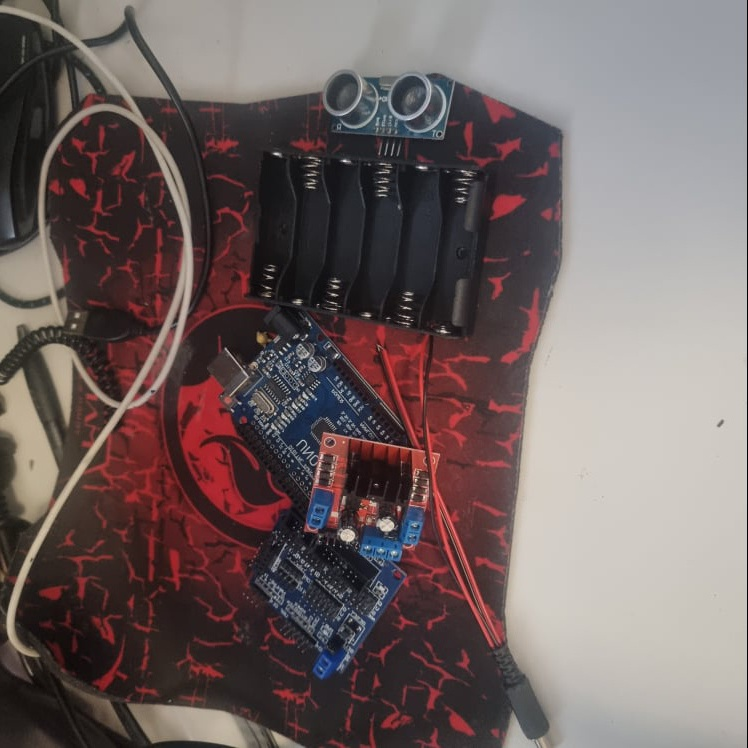5V EXPANSION: (233, 512, 408, 678)
BATTERY BOX: (247, 143, 493, 338)
MOTOR: (305, 439, 441, 563)
SENSOR: (323, 65, 461, 139)
UNO R3: (205, 304, 400, 483)
